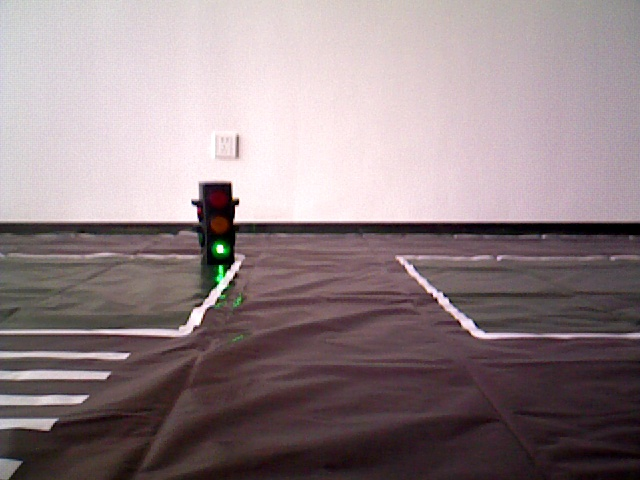green: (196, 187, 232, 258)
